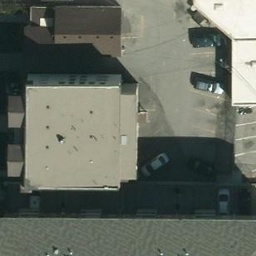car: (186, 154, 219, 178), (140, 151, 170, 176), (191, 30, 227, 48), (193, 76, 227, 95), (217, 188, 231, 219)
